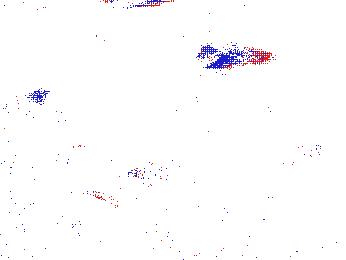X-ray fish: (124, 161, 186, 186), (275, 138, 325, 168)
redtail glassfish: (194, 30, 280, 67)
